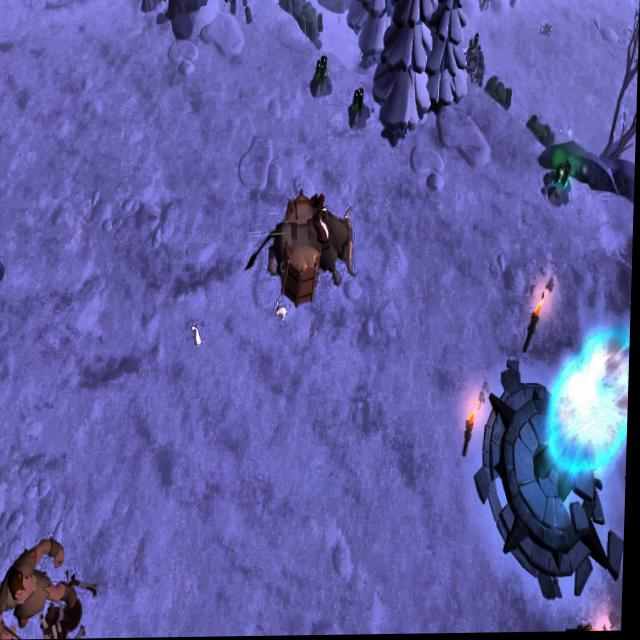enemy_factionKeeper: (0, 529, 86, 640)
ore_t3: (309, 46, 334, 98), (346, 82, 369, 125)
ore_t4: (544, 154, 574, 209)
rock_t3: (294, 0, 327, 52), (522, 108, 558, 150), (483, 68, 514, 114)
